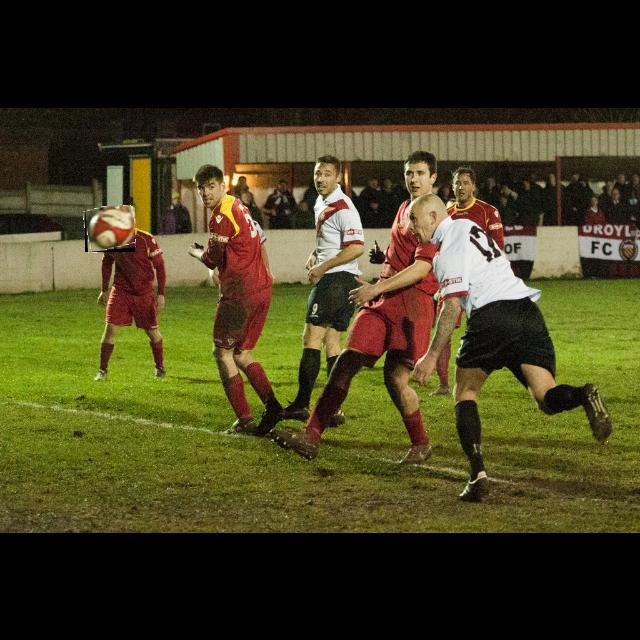Football: (85, 206, 135, 252)
